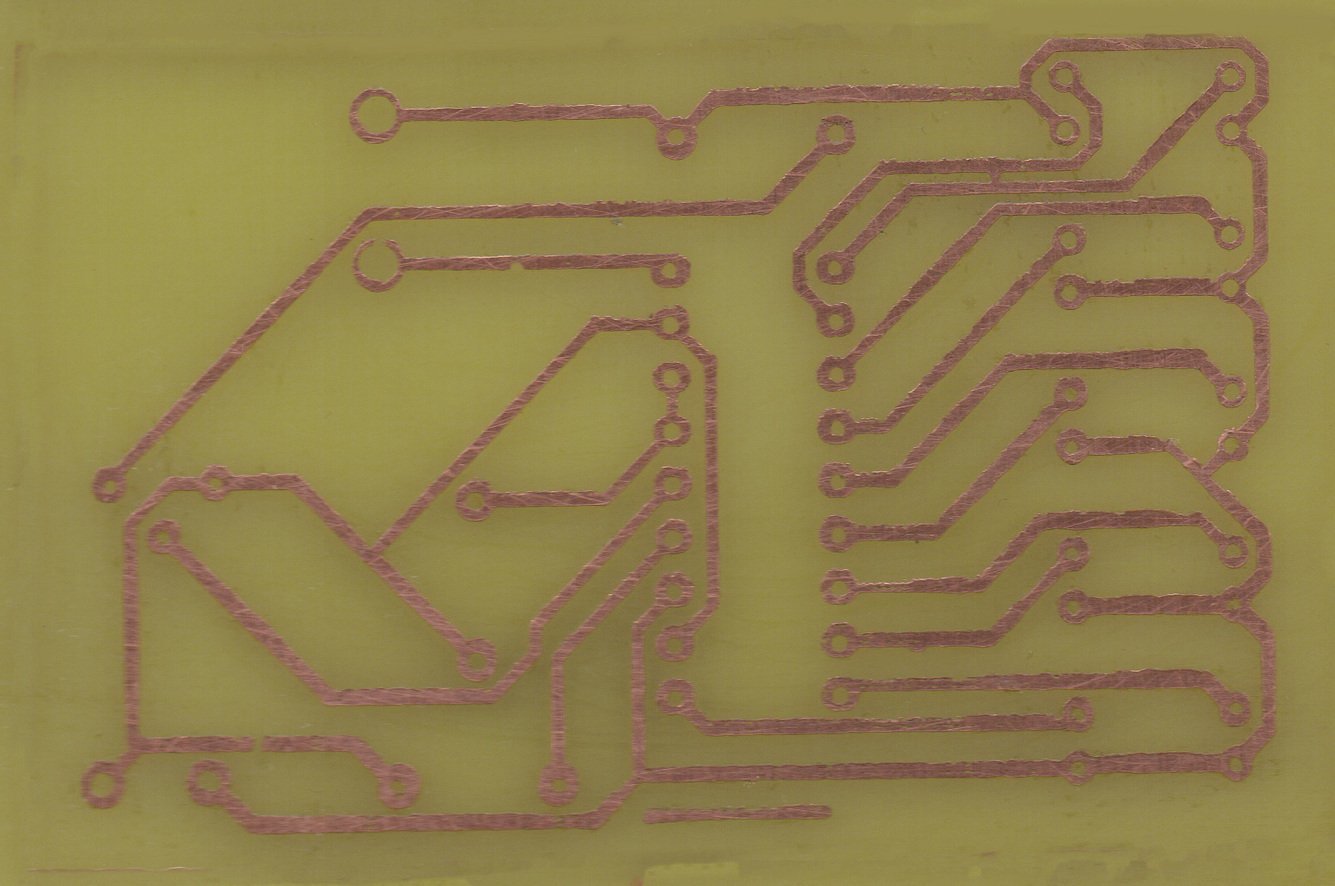missing_hole: (352, 237, 407, 290)
mouse_bite: (1086, 276, 1142, 299), (503, 254, 530, 272)
open_circuit: (242, 735, 271, 753)
short: (980, 158, 1012, 195)
spur: (907, 625, 928, 657)
spurious_copper: (641, 806, 837, 820)
